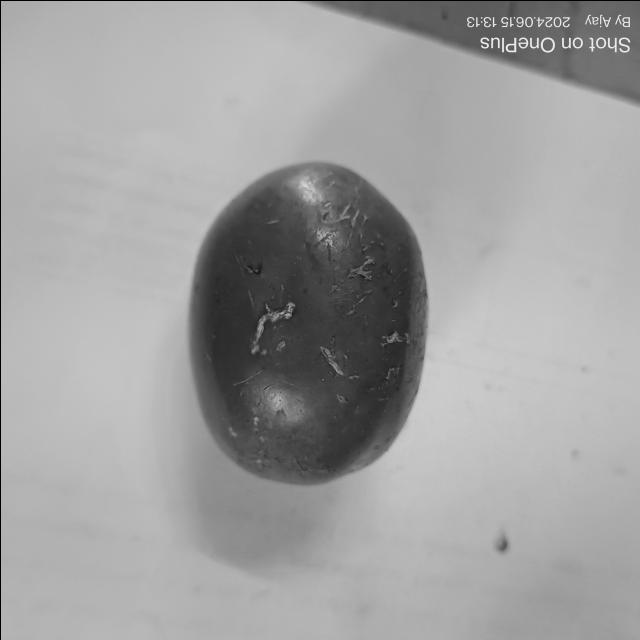Bacterial_Spot: (242, 293, 298, 373), (342, 245, 382, 297), (310, 337, 352, 384), (378, 322, 416, 352), (240, 260, 266, 278), (312, 208, 333, 225)
